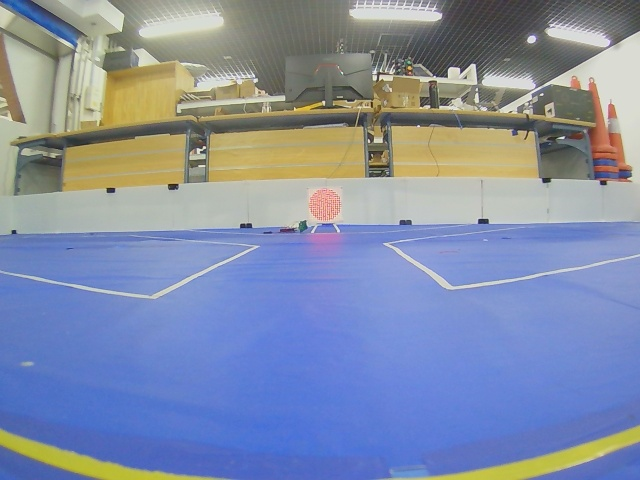red: (309, 188, 342, 223)
